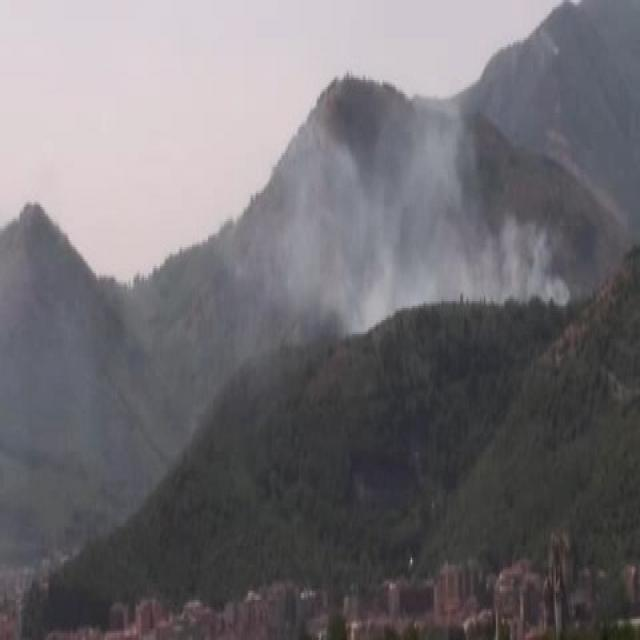smoke: (300, 113, 480, 305)
